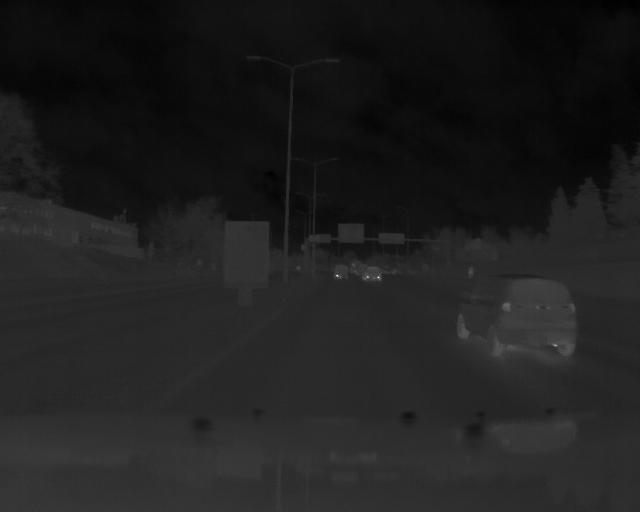car: (455, 273, 578, 361), (364, 264, 385, 285)
